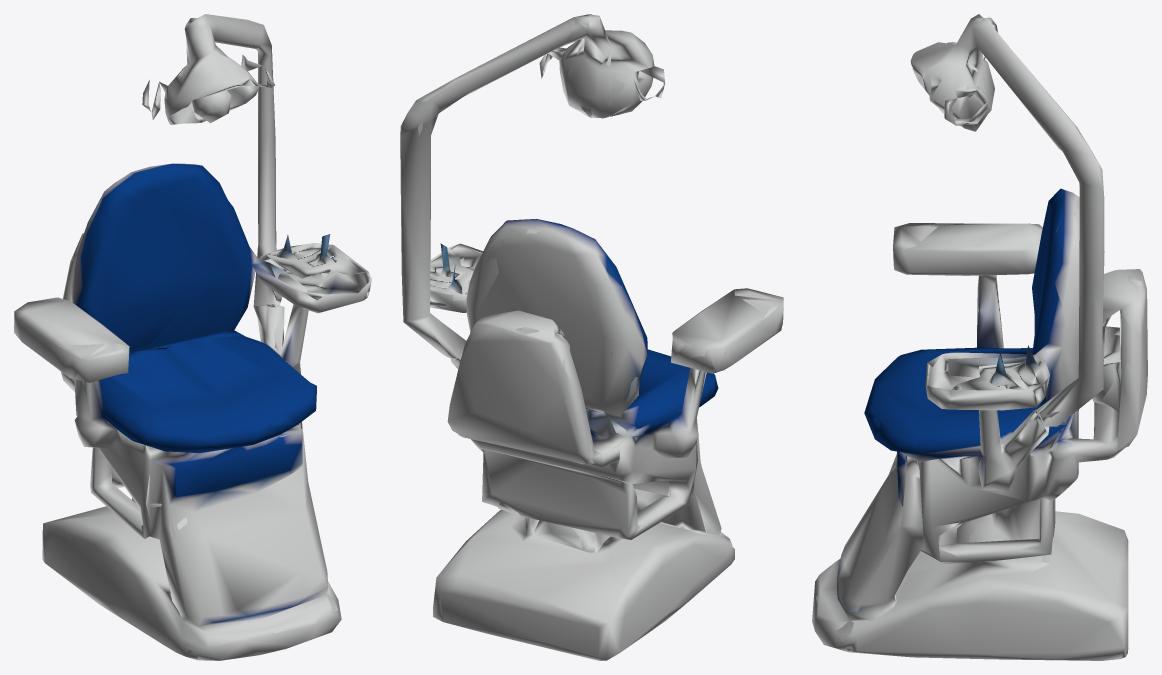
Rendered from gen3d-dentist-chair-lod0.glb.
3 views of the same model, side by side, from view 1: azimuth 30°, elevation 25°; view 2: azimuth 150°, elevation 25°; view 3: azimuth 270°, elevation 25° (orthographic). The views are drawn at different scales.
Visible parts, largest first — view 1: part_0; view 2: part_0; view 3: part_0.
Boxes of the visible parts, <box> form: part_0: <box>14,14,371,660</box>; part_0: <box>400,14,783,660</box>; part_0: <box>812,14,1147,660</box>.
Size of the model in its own units: 0.577 by 0.9931 by 0.5051.
